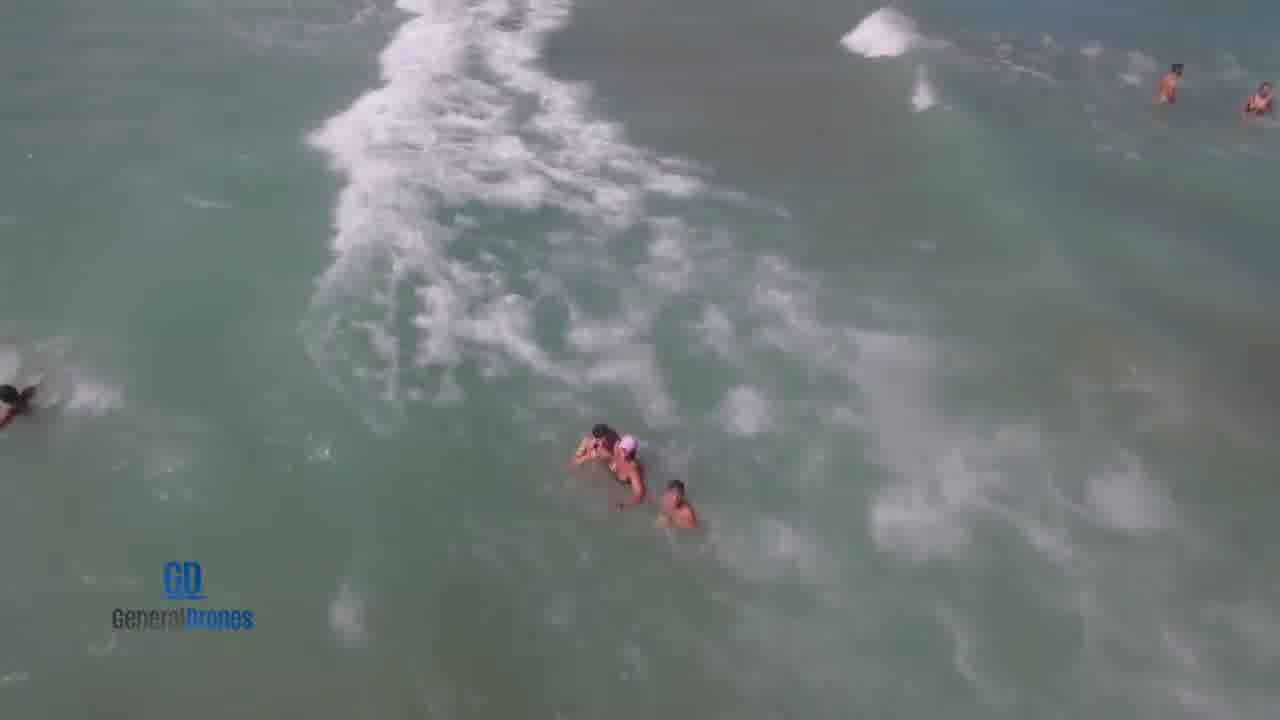human: (547, 407, 648, 509), (650, 464, 712, 536), (0, 362, 57, 440), (571, 406, 632, 453)
